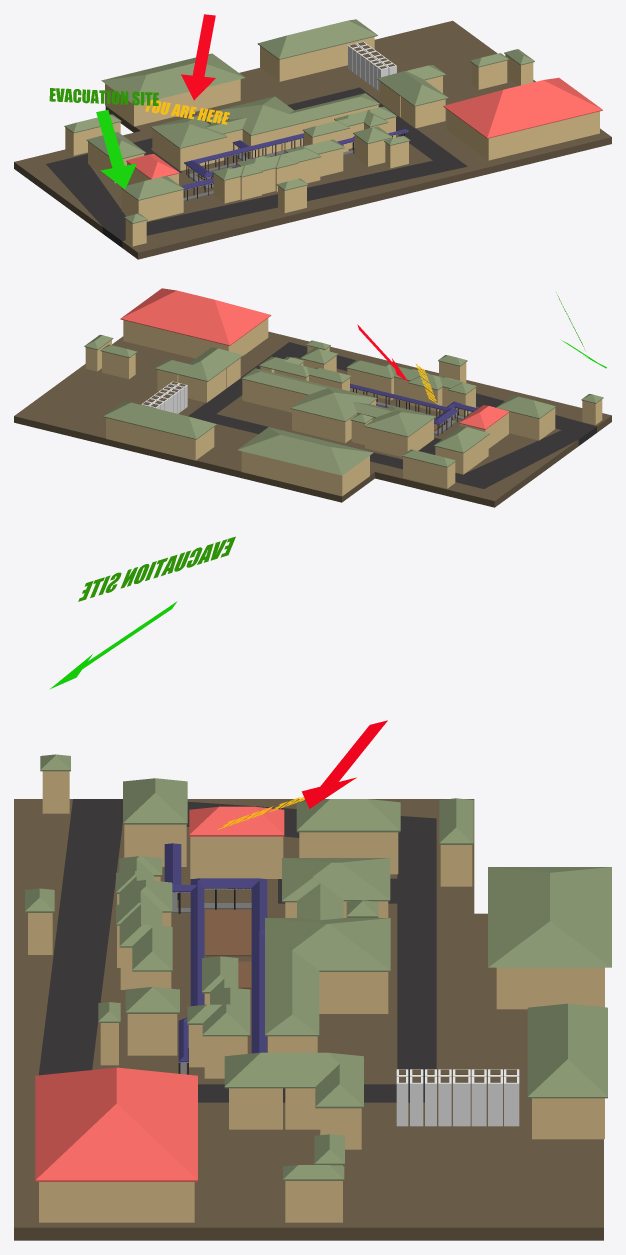
The model's file is CIVILDEPARTMENT.glb.
3 views of the same model, one above another, from view 1: azimuth 30°, elevation 25°; view 2: azimuth 150°, elevation 25°; view 3: azimuth 270°, elevation 25° (orthographic). The views are drawn at different scales.
Visible parts, largest first — view 1: Toposolid Grassland - 1200mm [352516], Toposolid Grassland - 1200mm [354195], Basic Roof Generic - 125mm [387914], Basic Roof Generic - 125mm [384035], Basic Roof Generic - 125mm [378573], Toposolid Grassland - 1200mm [354195].001, Basic Wall Generic - 200mm [355787], Basic Roof Generic - 125mm [385592], Basic Wall Generic - 200mm [355672], Basic Roof Generic - 125mm [385698], Basic Roof Generic - 125mm [387351], Basic Wall Generic - 200mm [355773] (+35 smaller); view 2: Toposolid Grassland - 1200mm [352516], Toposolid Grassland - 1200mm [354195], Basic Roof Generic - 125mm [387914], Basic Roof Generic - 125mm [384035], Basic Roof Generic - 125mm [378573], Basic Wall Generic - 200mm [355757], Basic Roof Generic - 125mm [385592], Basic Wall Generic - 200mm [355771], Basic Wall Generic - 200mm [355789], Basic Roof Generic - 125mm [387351], Basic Roof Generic - 125mm [385698], Basic Wall Generic - 200mm [357221] (+27 smaller); view 3: Toposolid Grassland - 1200mm [352516], Toposolid Grassland - 1200mm [354195], Basic Roof Generic - 125mm [387914], Basic Roof Generic - 125mm [384035], Basic Roof Generic - 125mm [378573], Toposolid Grassland - 1200mm [354195].001, Basic Roof Generic - 125mm [385592], Basic Wall Generic - 200mm [355788], Basic Roof Generic - 125mm [389243], Basic Roof Generic - 125mm [387351], Basic Roof Generic - 125mm [385698], Basic Wall Generic - 200mm [355719] (+26 smaller).
Part boxes in pixels (x1,y1,x2,y2): Toposolid Grassland - 1200mm [352516]: (14,20,611,259); Toposolid Grassland - 1200mm [354195]: (46,87,467,247); Basic Roof Generic - 125mm [387914]: (443,77,602,138); Basic Roof Generic - 125mm [384035]: (150,93,379,148); Basic Roof Generic - 125mm [378573]: (101,53,245,103); Toposolid Grassland - 1200mm [354195].001: (123,161,465,240); Basic Wall Generic - 200mm [355787]: (489,111,599,160); Basic Roof Generic - 125mm [385592]: (257,19,377,59); Basic Wall Generic - 200mm [355672]: (135,79,240,126); Basic Roof Generic - 125mm [385698]: (212,139,344,180); Basic Roof Generic - 125mm [387351]: (377,65,448,106); Basic Wall Generic - 200mm [355773]: (281,37,374,81); Toposolid Grassland - 1200mm [352516]: (14,331,611,507); Toposolid Grassland - 1200mm [354195]: (188,342,596,488); Basic Roof Generic - 125mm [387914]: (120,288,271,345); Basic Roof Generic - 125mm [384035]: (241,368,435,437); Basic Roof Generic - 125mm [378573]: (238,427,373,475); Basic Wall Generic - 200mm [355757]: (242,451,340,495); Basic Roof Generic - 125mm [385592]: (103,401,216,439); Basic Wall Generic - 200mm [355771]: (107,418,195,460); Basic Wall Generic - 200mm [355789]: (124,320,228,358); Basic Roof Generic - 125mm [387351]: (155,347,243,381); Basic Roof Generic - 125mm [385698]: (346,360,476,394); Basic Wall Generic - 200mm [357221]: (242,379,307,412); Toposolid Grassland - 1200mm [352516]: (14,799,603,1240); Toposolid Grassland - 1200mm [354195]: (39,799,436,1102); Basic Roof Generic - 125mm [387914]: (35,1067,197,1181); Basic Roof Generic - 125mm [384035]: (265,858,390,1036); Basic Roof Generic - 125mm [378573]: (488,867,611,967); Toposolid Grassland - 1200mm [354195].001: (39,800,122,1074); Basic Roof Generic - 125mm [385592]: (527,1003,607,1098); Basic Wall Generic - 200mm [355788]: (41,1182,194,1222); Basic Roof Generic - 125mm [389243]: (164,843,267,1062); Basic Roof Generic - 125mm [387351]: (224,1052,363,1108); Basic Roof Generic - 125mm [385698]: (116,856,172,971); Basic Wall Generic - 200mm [355719]: (499,967,604,1009).
Size of the model in its own units: 91.54 by 24.78 by 50.68.
